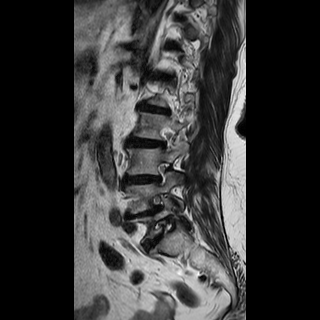LFS2: (148, 156, 173, 188)
LFS3: (142, 187, 170, 218)
